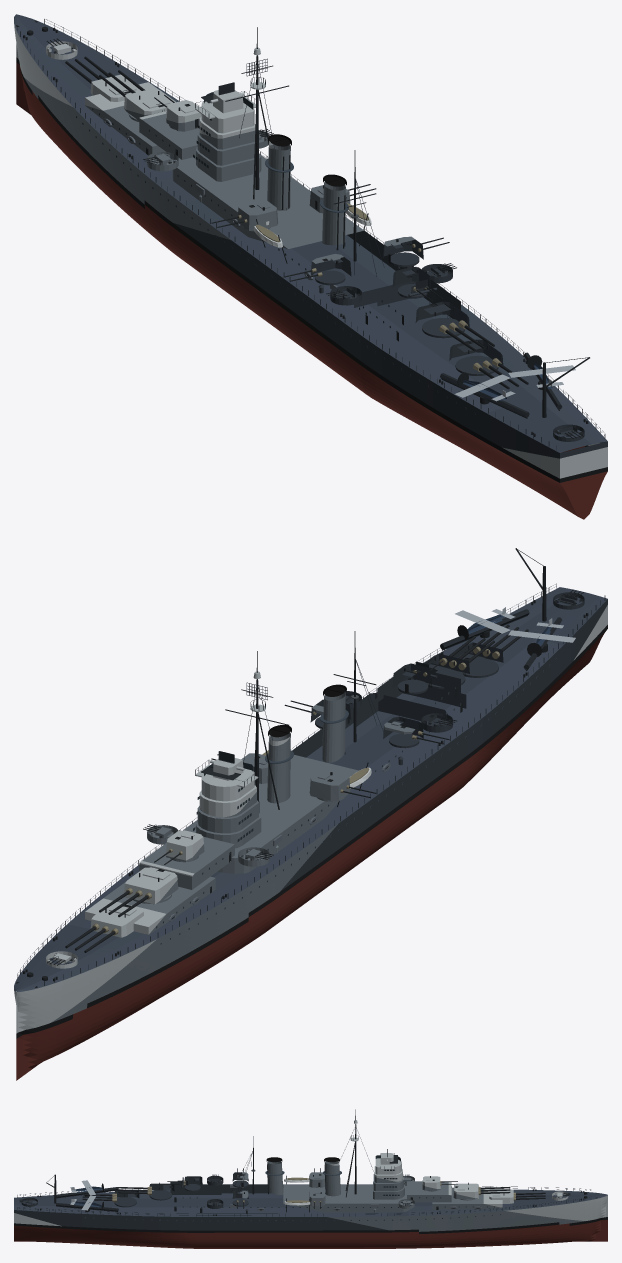
Rendered from cleveland_m22.glb.
3 renders of one model, top to bottom at view 1: azimuth 30°, elevation 25°; view 2: azimuth 150°, elevation 25°; view 3: azimuth 270°, elevation 25°, orthographic. The views are drawn at different scales.
Visible parts, largest first — view 1: Hull, Turret3, Turret4, Turret2, Mount55, Mount56, Mount54, Turret1, Mount51, Mount52, Float2, Director (+1 smaller); view 2: Hull, Turret2, Turret1, Turret4, Turret3, Mount54, Mount56, Mount51, Mount52, Float1, Float2; view 3: Hull, Turret2, Turret3, Turret4, Turret1, Mount51, Mount52, Mount53, Mount54, Mount55, Mount56, Float1 (+1 smaller).
Part boxes in pixels (x1,y1,x2,y2): Hull: [14, 14, 607, 519]; Turret3: [415, 301, 494, 351]; Turret4: [449, 339, 528, 389]; Turret2: [99, 70, 175, 121]; Mount55: [383, 236, 449, 267]; Mount56: [284, 254, 351, 285]; Mount54: [211, 200, 278, 231]; Turret1: [65, 56, 141, 101]; Mount51: [154, 94, 201, 131]; Mount52: [392, 267, 442, 301]; Float2: [454, 372, 515, 401]; Director: [210, 82, 244, 113]; Hull: [14, 548, 607, 1080]; Turret2: [99, 867, 178, 917]; Turret1: [65, 903, 143, 952]; Turret4: [452, 624, 528, 677]; Turret3: [416, 636, 494, 689]; Mount54: [309, 770, 376, 801]; Mount56: [383, 716, 449, 748]; Mount51: [154, 830, 204, 864]; Mount52: [392, 658, 442, 694]; Float1: [455, 607, 515, 639]; Float2: [508, 618, 575, 656]; Hull: [14, 1109, 607, 1248]; Turret2: [453, 1182, 510, 1200]; Turret3: [118, 1182, 174, 1200]; Turret4: [82, 1190, 139, 1207]; Turret1: [489, 1189, 545, 1203]; Mount51: [422, 1176, 457, 1191]; Mount52: [167, 1176, 202, 1191]; Mount53: [309, 1190, 325, 1208]; Mount54: [309, 1168, 325, 1187]; Mount55: [232, 1190, 248, 1208]; Mount56: [232, 1168, 248, 1187]; Float1: [70, 1195, 103, 1210].
Bounding box in the file's own units: 30 × 45.78 × 186.
